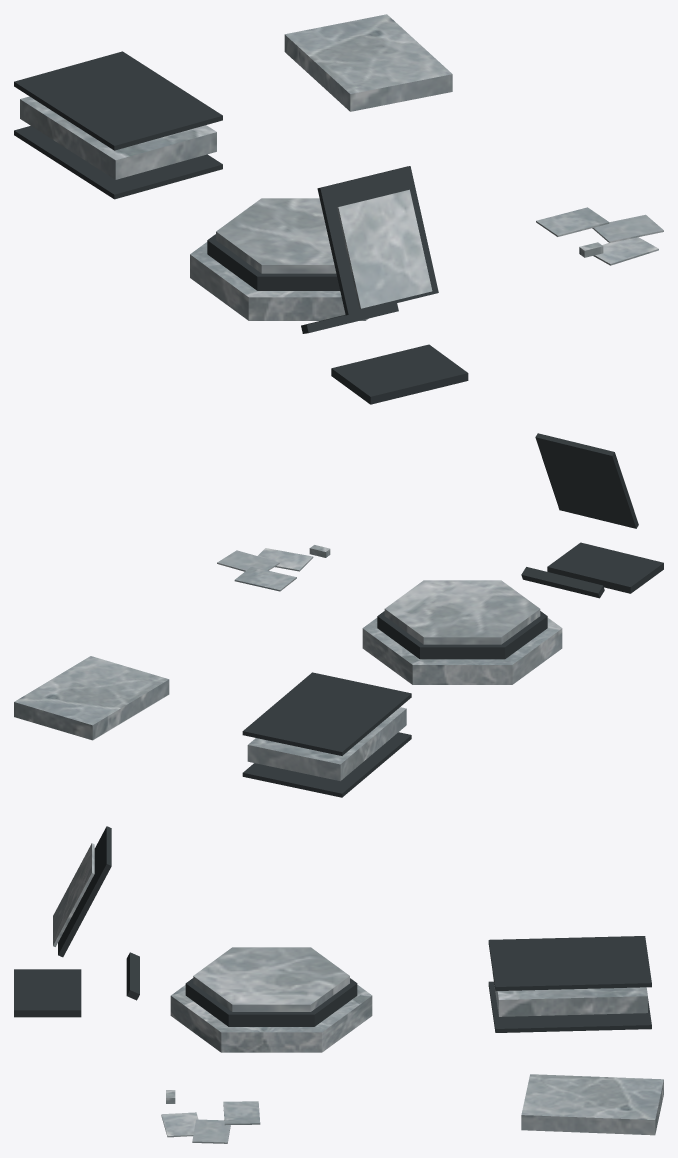
The model's file is SM_Prop_RecordSet.fbx.
3 renders of one model, top to bottom at view 1: azimuth 30°, elevation 25°; view 2: azimuth 150°, elevation 25°; view 3: azimuth 270°, elevation 25°, orthographic. The views are drawn at different scales.
Parts seen in each view (by area): view 1: rc-ledger-top, rc-stack, rc-stand-card, rc-copy-hex, rc-ledger-pages, rc-tray, rc-stand-board, rc-stand-base, rc-ledger-cover, rc-tray-cav, rc-card-2, rc-card-1 (+2 smaller); view 2: rc-ledger-top, rc-copy-hex, rc-stack, rc-stand-board, rc-tray, rc-ledger-pages, rc-stand-base, rc-tray-cav, rc-ledger-cover, rc-stand-lip, rc-card-2, rc-card-1 (+1 smaller); view 3: rc-ledger-top, rc-copy-hex, rc-stack, rc-tray, rc-ledger-pages, rc-stand-base, rc-ledger-cover, rc-tray-cav, rc-stand-board, rc-stand-card, rc-card-2, rc-card-1 (+2 smaller).
Boxes of the visible parts, left/top/right/bottom form: rc-ledger-top: left=14, top=51, right=222, bottom=150; rc-stack: left=284, top=14, right=452, bottom=111; rc-stand-card: left=337, top=189, right=432, bottom=308; rc-copy-hex: left=216, top=198, right=336, bottom=273; rc-ledger-pages: left=20, top=96, right=216, bottom=179; rc-tray: left=190, top=242, right=368, bottom=320; rc-stand-board: left=317, top=166, right=438, bottom=315; rc-stand-base: left=331, top=344, right=468, bottom=404; rc-ledger-cover: left=14, top=126, right=222, bottom=199; rc-tray-cav: left=207, top=234, right=340, bottom=290; rc-card-2: left=536, top=207, right=609, bottom=236; rc-card-1: left=592, top=214, right=663, bottom=242; rc-ledger-top: left=242, top=672, right=411, bottom=755; rc-copy-hex: left=384, top=580, right=540, bottom=644; rc-stack: left=14, top=656, right=169, bottom=740; rc-stand-board: left=535, top=433, right=638, bottom=528; rc-tray: left=362, top=618, right=562, bottom=684; rc-ledger-pages: left=247, top=707, right=406, bottom=781; rc-stand-base: left=547, top=542, right=663, bottom=593; rc-tray-cav: left=377, top=611, right=547, bottom=659; rc-ledger-cover: left=242, top=732, right=411, bottom=797; rc-stand-lip: left=521, top=567, right=604, bottom=598; rc-card-2: left=234, top=567, right=296, bottom=591; rc-card-1: left=217, top=550, right=279, bottom=571; rc-ledger-top: left=488, top=936, right=651, bottom=990; rc-copy-hex: left=193, top=947, right=349, bottom=1011; rc-stack: left=521, top=1074, right=663, bottom=1135; rc-tray: left=170, top=985, right=372, bottom=1052; rc-ledger-pages: left=492, top=973, right=647, bottom=1016; rc-stand-base: left=14, top=969, right=81, bottom=1017; rc-ledger-cover: left=488, top=981, right=651, bottom=1032; rc-tray-cav: left=185, top=978, right=357, bottom=1026; rc-stand-board: left=58, top=826, right=111, bottom=957; rc-stand-card: left=53, top=843, right=94, bottom=946; rc-card-2: left=223, top=1101, right=260, bottom=1125; rc-card-1: left=192, top=1119, right=230, bottom=1143.
Size of the model in its own units: 53.35 by 22.92 by 87.05.
Materials: 4 (3 with a texture image).
